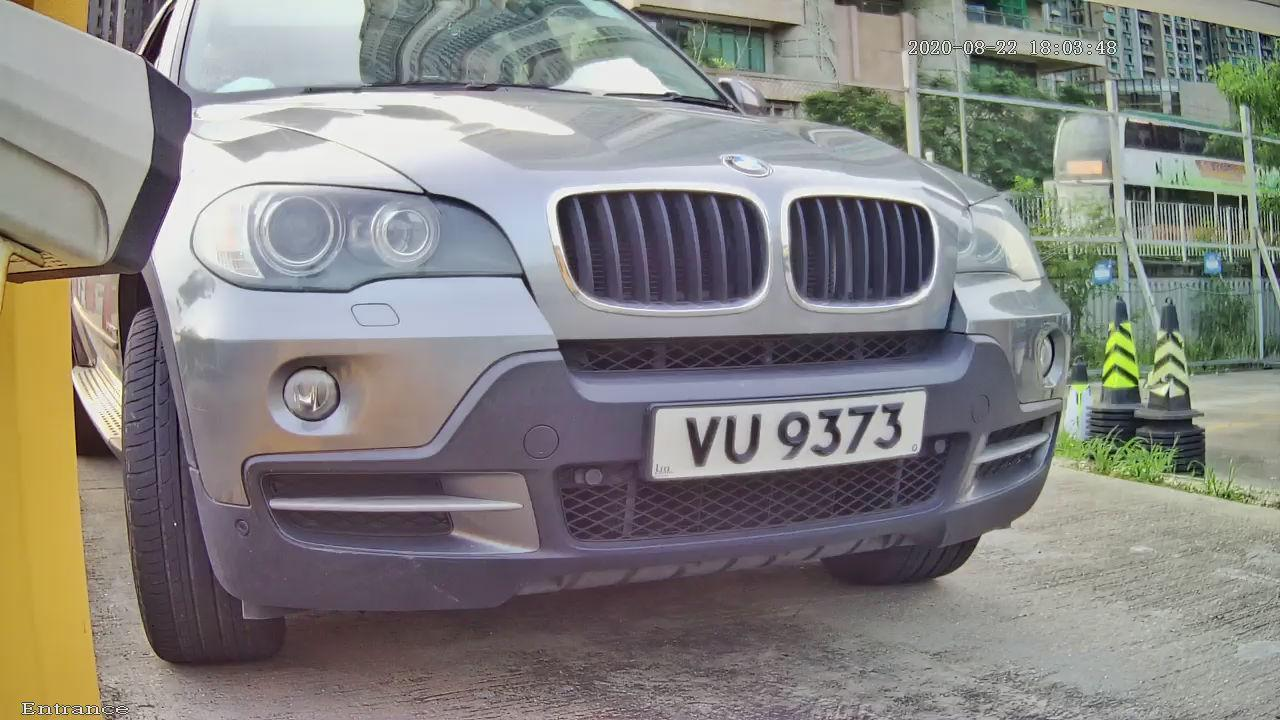Car: (18, 17, 1132, 647)
License Plate: (625, 369, 980, 499)
